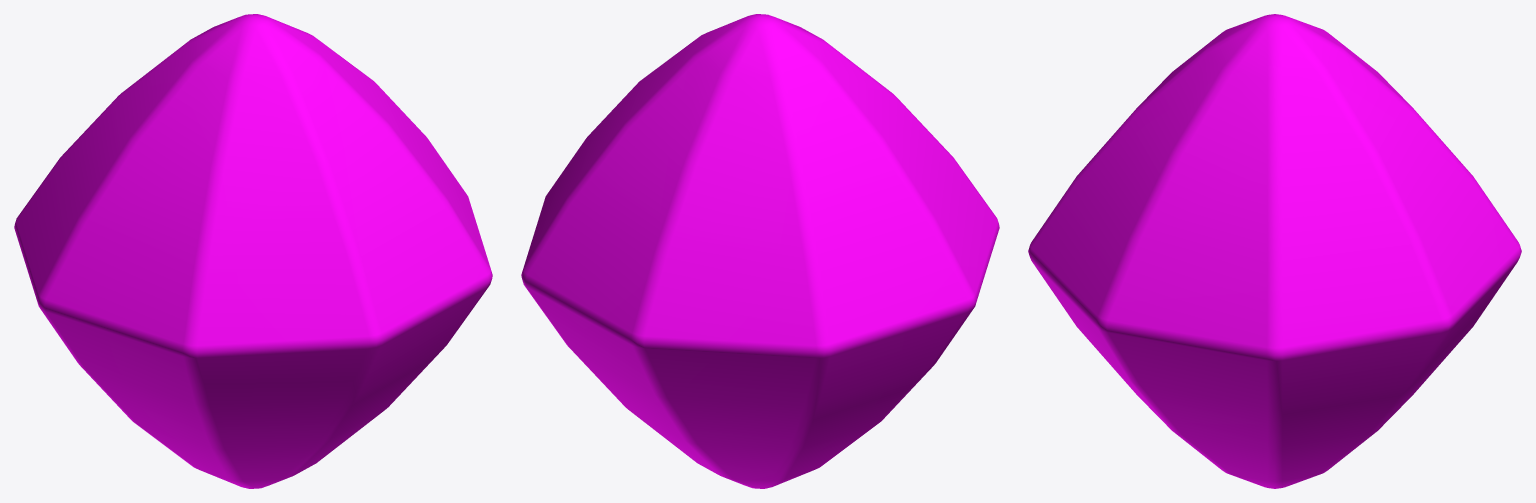
3 views of the same model, side by side, from view 1: azimuth 30°, elevation 25°; view 2: azimuth 150°, elevation 25°; view 3: azimuth 270°, elevation 25° (orthographic).
Visible parts, largest first — view 1: model_0.106; view 2: model_0.106; view 3: model_0.106.
Boxes of the visible parts, x1,y1,x2,y2 form: model_0.106: (14,14,492,488); model_0.106: (521,14,999,488); model_0.106: (1028,14,1521,488).
Size of the model in its own units: 3.48 by 3.64 by 3.48.
